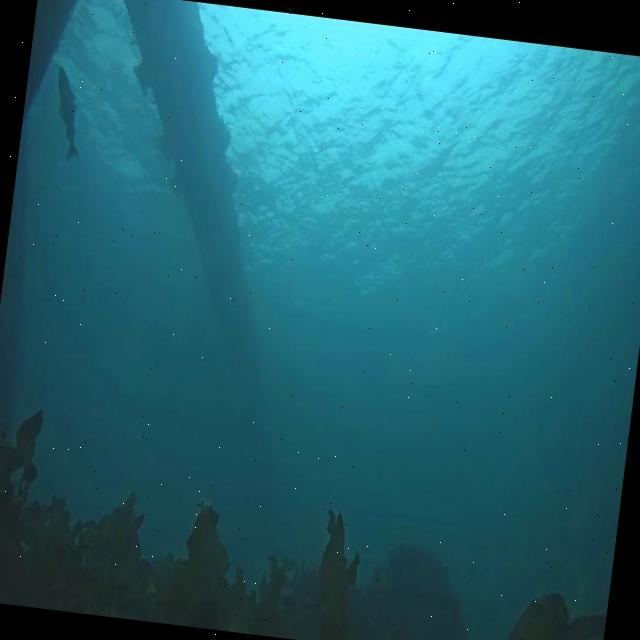fish: (46, 64, 90, 161)
